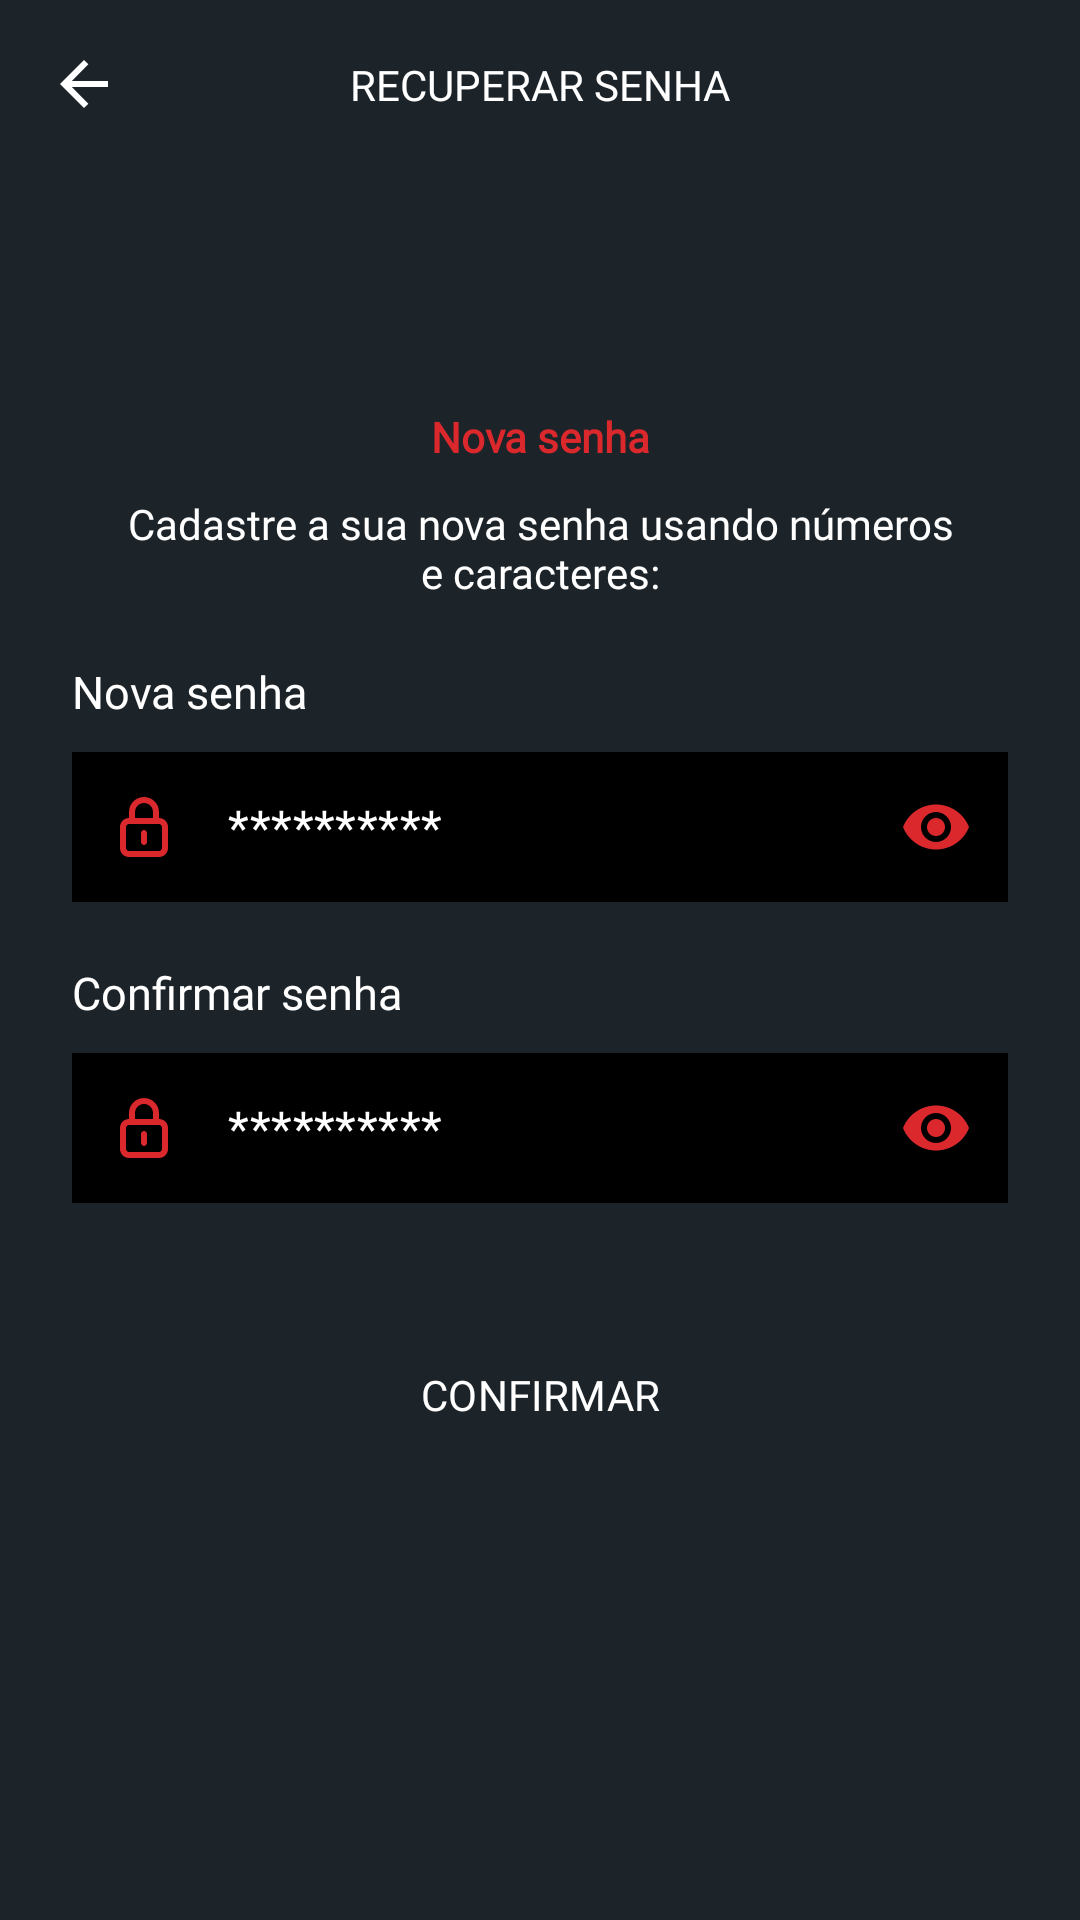

Icons on this 1080px×1920px Android screen, each with its box as (x1, y1, x2, y2):
left arrow: (60, 60, 108, 108)
